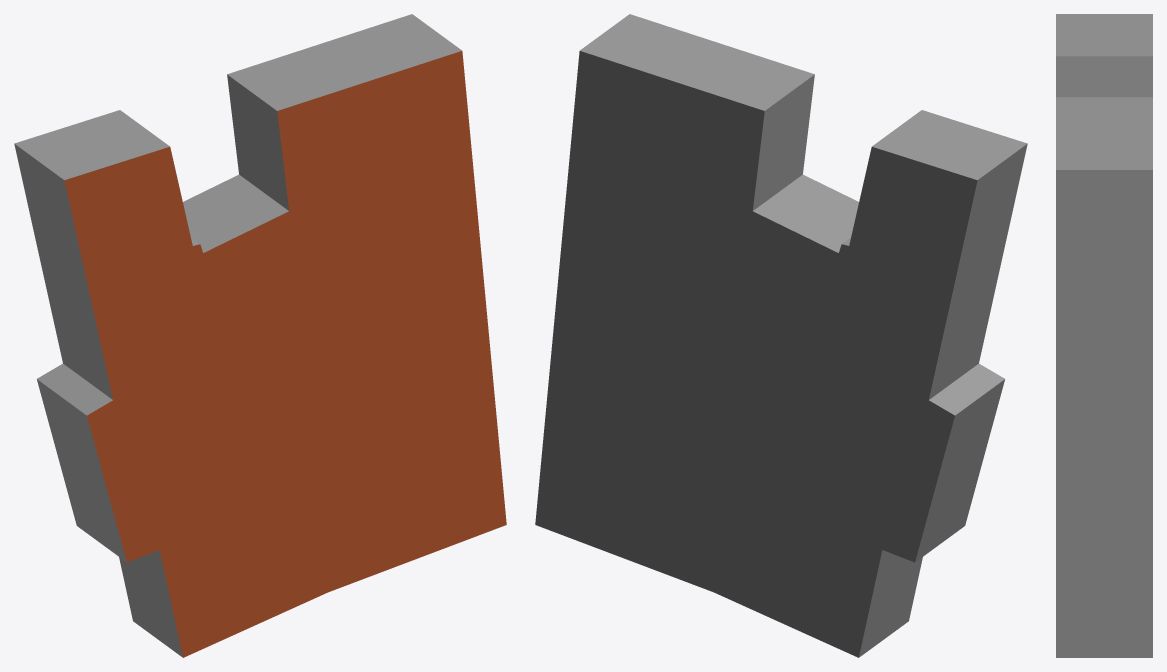
File: construction_3927_assumed_A_Casa_h6m.obj
3 views of the same model, side by side, from view 1: azimuth 30°, elevation 25°; view 2: azimuth 150°, elevation 25°; view 3: azimuth 270°, elevation 25° (orthographic). The views are drawn at different scales.
Parts seen in each view (by area): view 1: construction_3927_assumed_A_Casa; view 2: construction_3927_assumed_A_Casa; view 3: construction_3927_assumed_A_Casa.
Boxes of the visible parts, x1,y1,x2,y2 form: construction_3927_assumed_A_Casa: (14,14,506,657); construction_3927_assumed_A_Casa: (535,14,1027,657); construction_3927_assumed_A_Casa: (1056,14,1152,657).
Bounding box in the file's own units: 30.54 × 35.57 × 6.
